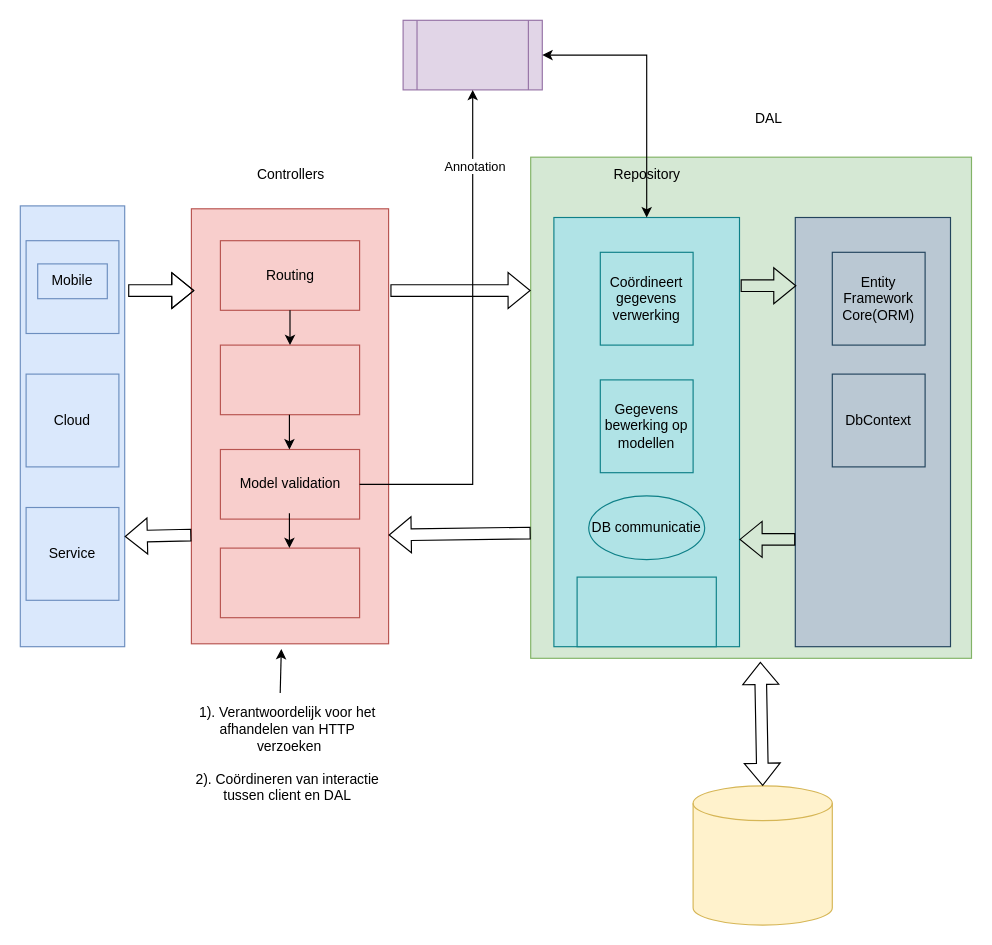
The diagram is 992 pixels wide and 945 high, and some of its shapes have lost their labels. The shapes that lost their labels are listed below. From the top down, each one's box as (x1, y1, x2, y2) in pixels, then its label:
(402, 19, 542, 90): Model
(219, 344, 360, 415): Model Binding
(219, 547, 360, 618): Action Methods
(576, 576, 716, 647): SRP: Single Responsibility Principle
(692, 785, 832, 925): DB
